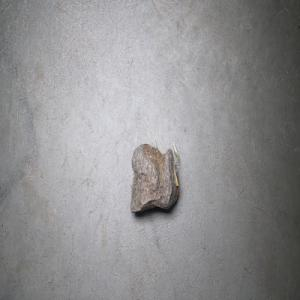Rock: (129, 140, 180, 213)
